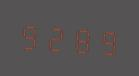eight: (68, 19, 92, 57)
nine: (18, 16, 42, 54), (93, 21, 117, 59)
two: (43, 18, 67, 55)
